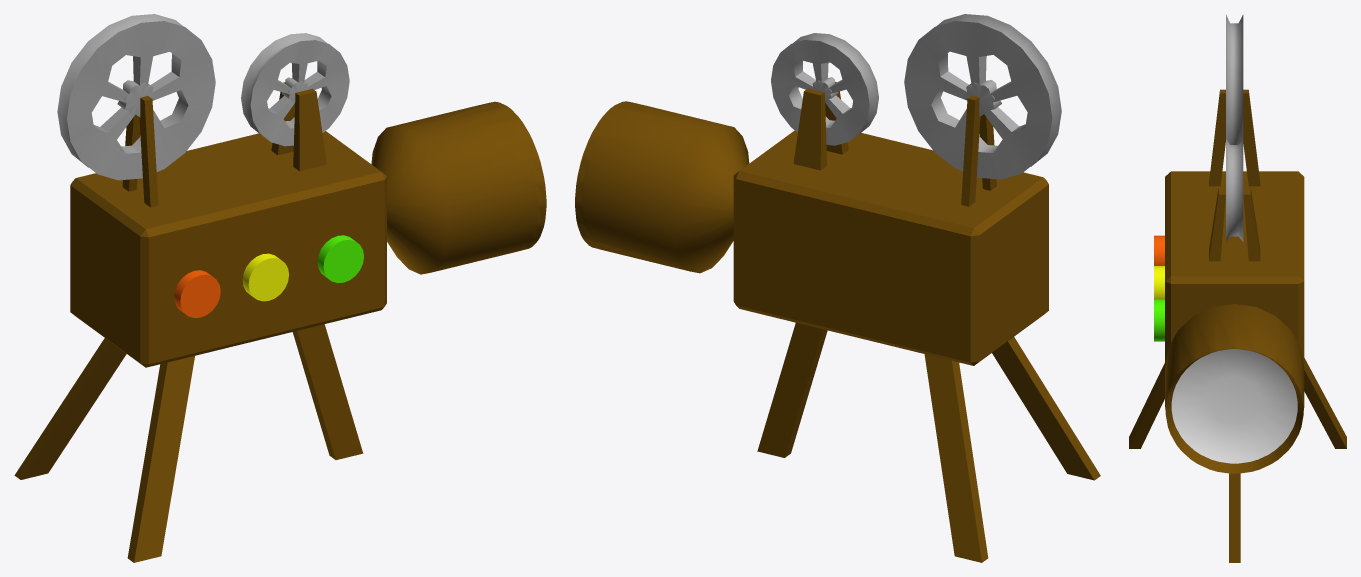
The model's file is low_poly_projector.glb.
The picture shows the model from 3 angles, left to right: view 1: azimuth 30°, elevation 25°; view 2: azimuth 150°, elevation 25°; view 3: azimuth 270°, elevation 25°; orthographic projection. The views are drawn at different scales.
Visible parts, largest first — view 1: Projecter, FilmWheel1, FilmWheel2; view 2: Projecter, FilmWheel1, FilmWheel2; view 3: Projecter, FilmWheel1, FilmWheel2.
Part boxes in pixels (x1,y1,x2,y2): Projecter: [14, 82, 546, 562]; FilmWheel1: [57, 14, 215, 180]; FilmWheel2: [241, 33, 349, 146]; Projecter: [575, 82, 1100, 562]; FilmWheel1: [904, 14, 1061, 179]; FilmWheel2: [771, 33, 878, 145]; Projecter: [1129, 89, 1346, 562]; FilmWheel1: [1226, 14, 1243, 144]; FilmWheel2: [1226, 139, 1243, 241].
Bounding box in the file's own units: 0.0675 × 0.0703 × 0.0313.
